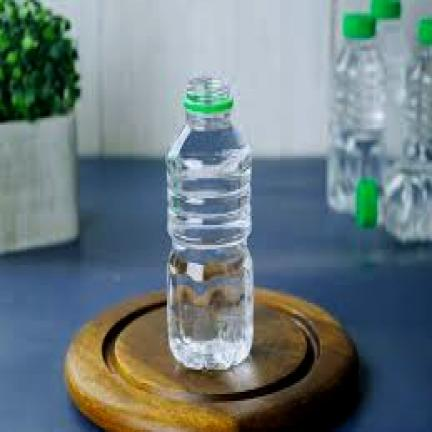container: (167, 76, 252, 367)
fluid: (167, 127, 252, 367)
fluid-surface: (188, 118, 229, 129)
